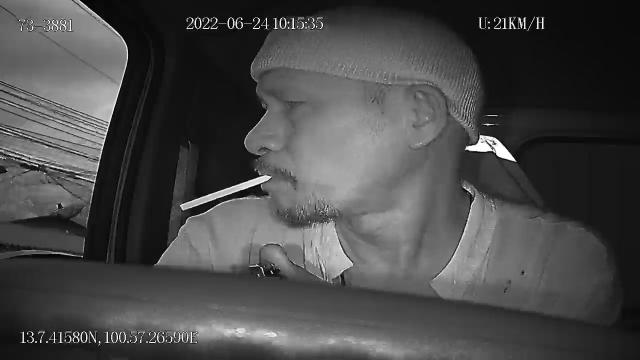Cigarette: (178, 173, 274, 215)
